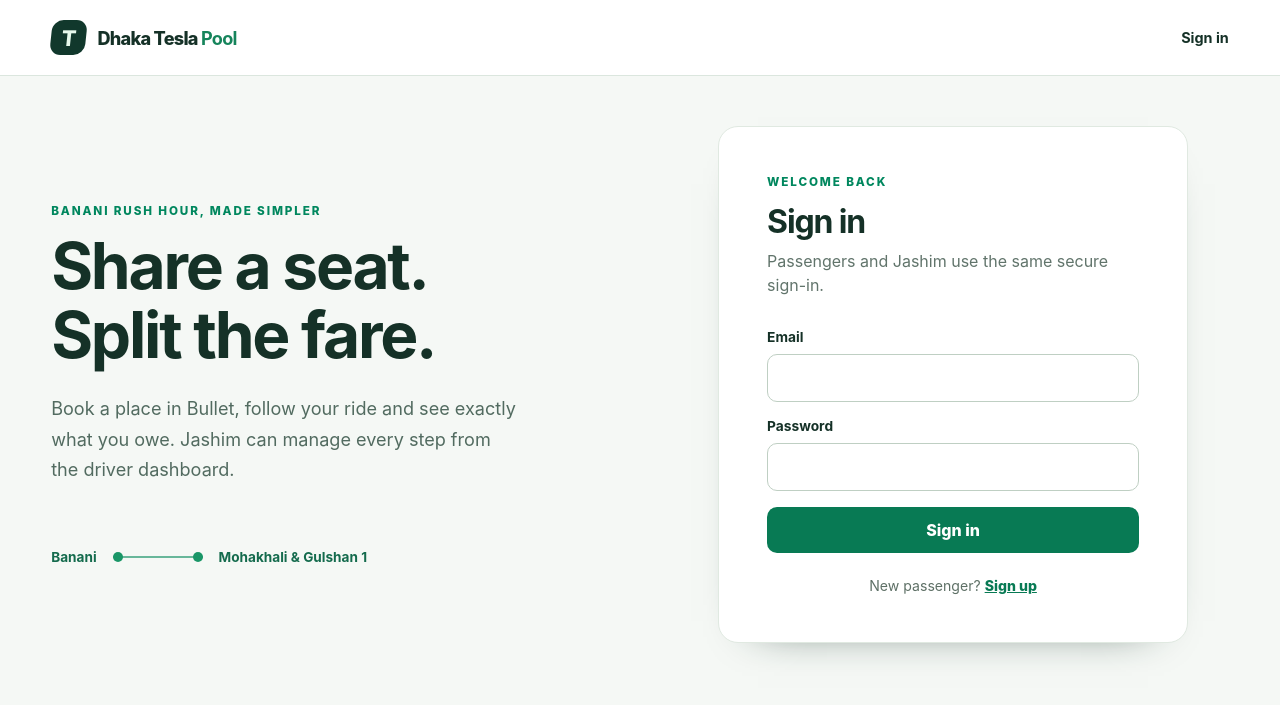
Test: frontend API flows › restores a guest, registers a passenger, then signs out without storing tokens
Click the link "Sign up": (1011, 585) left=985, top=577, right=1037, bottom=594
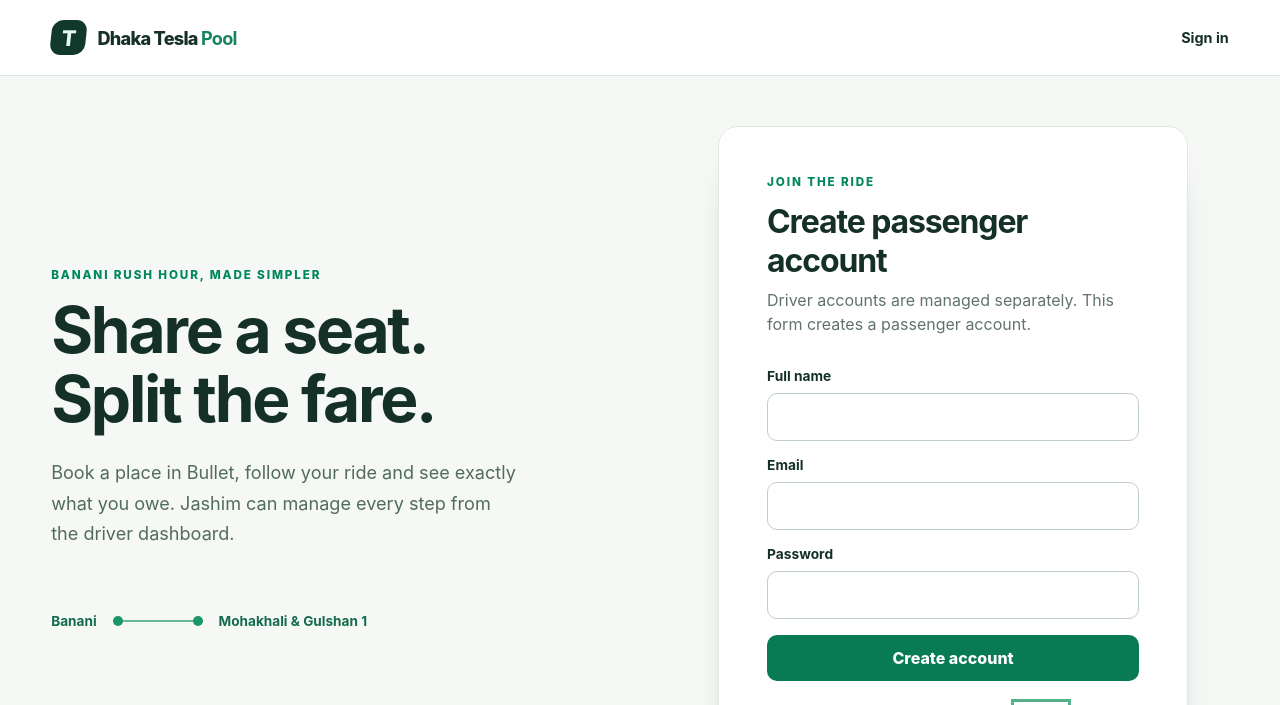
In the field labelled "Full name": (953, 417) left=767, top=393, right=1139, bottom=441, type "Nusrat"
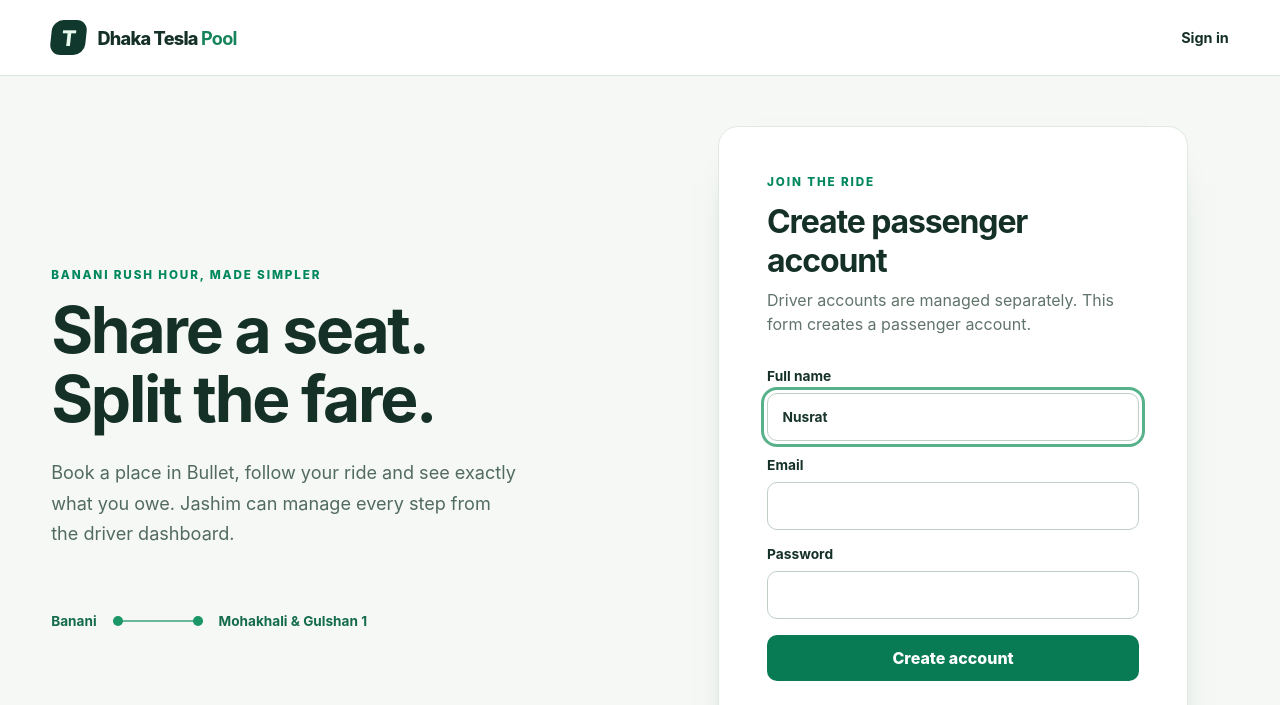
In the field labelled "Email": (953, 506) left=767, top=482, right=1139, bottom=530, type "nusrat@example.com"
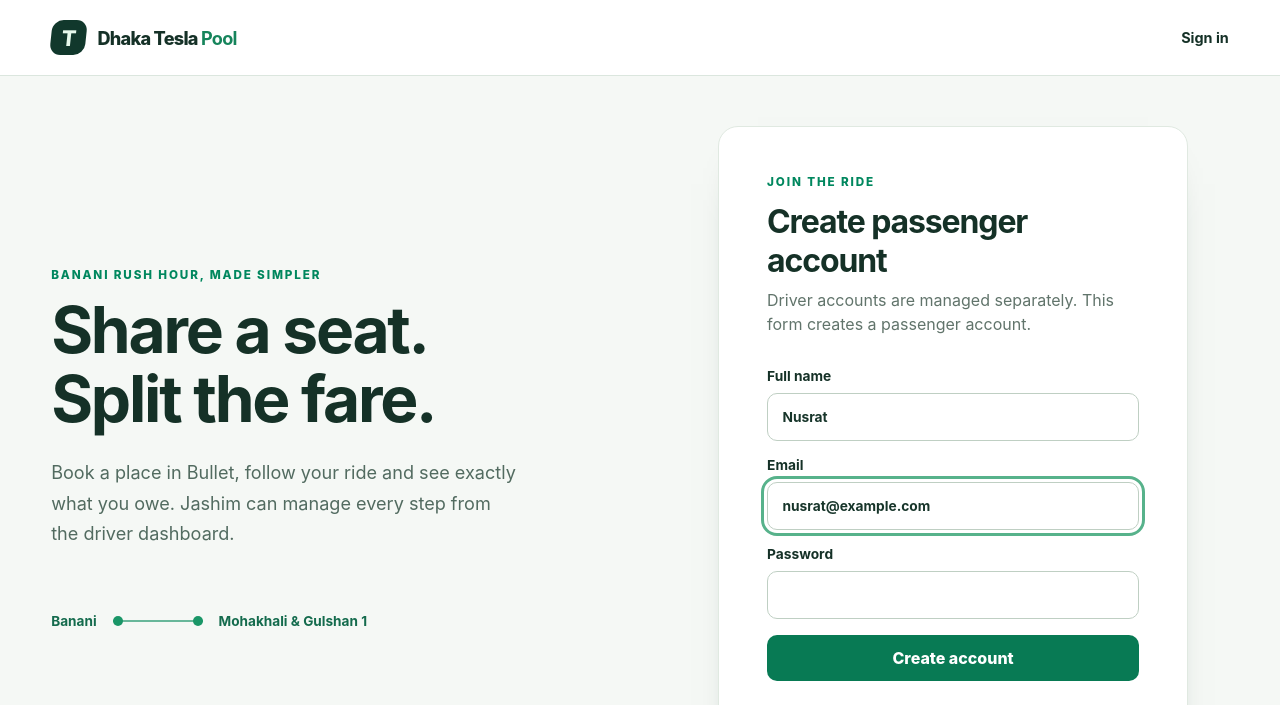
In the password field labelled "Password": (953, 595) left=767, top=571, right=1139, bottom=619, type "long-private-passphrase"
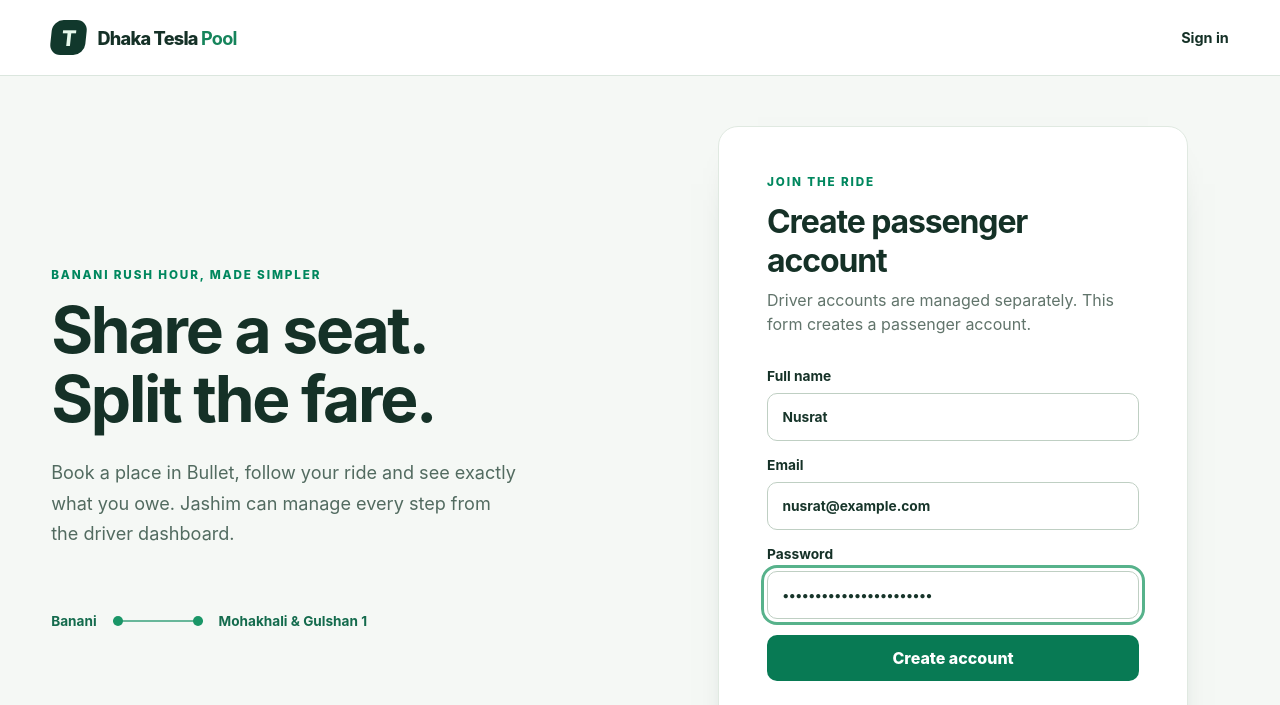
Click the button "Create account": (953, 658) left=767, top=635, right=1139, bottom=681
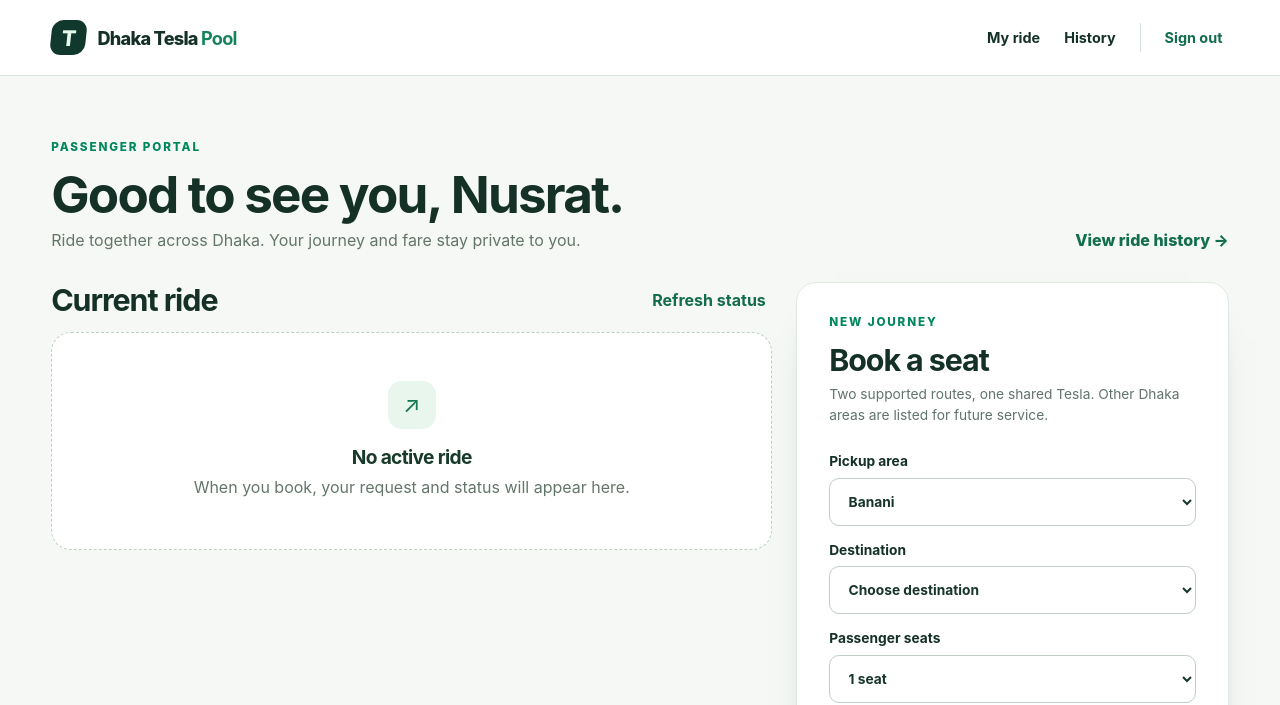
Check: the heading "Good to see you, Nusrat." is shown, box left=51, top=167, right=623, bottom=222
Check: the text "Dashboard" is gone
Click the button "Sign out": (1184, 38) left=1140, top=23, right=1229, bottom=52
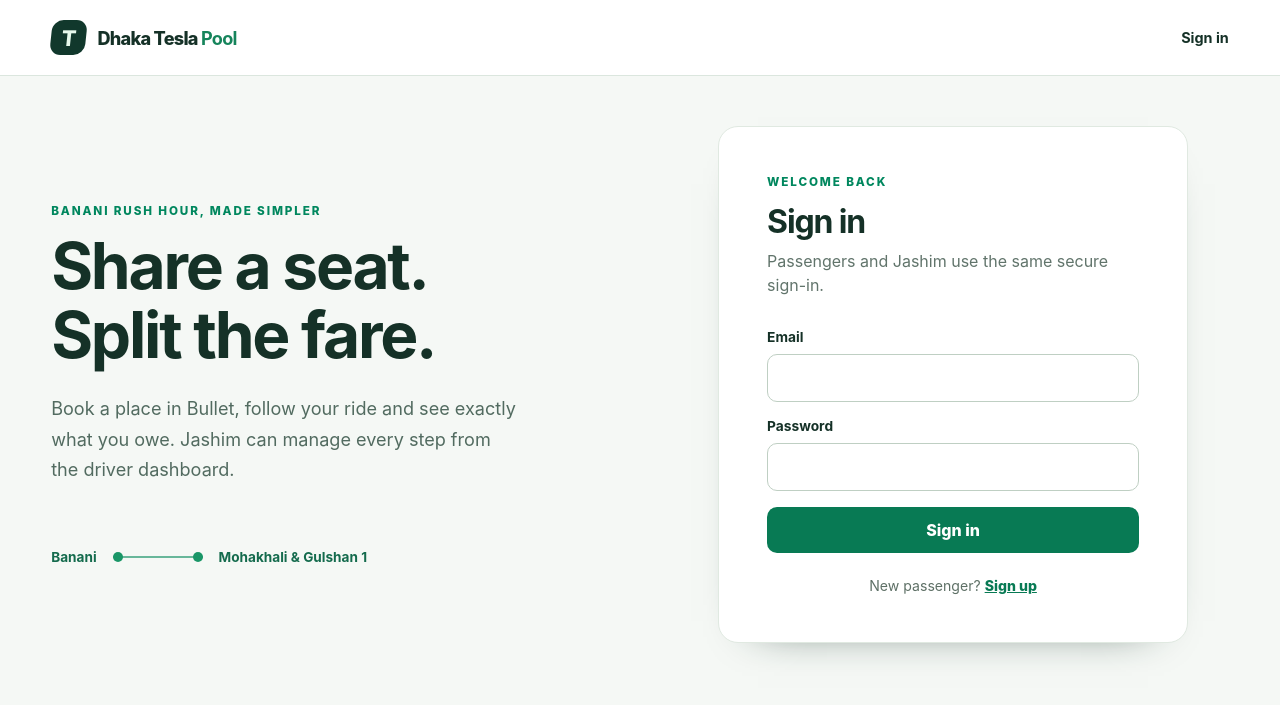
Check: the heading "Sign in" is shown, box left=767, top=202, right=865, bottom=241
